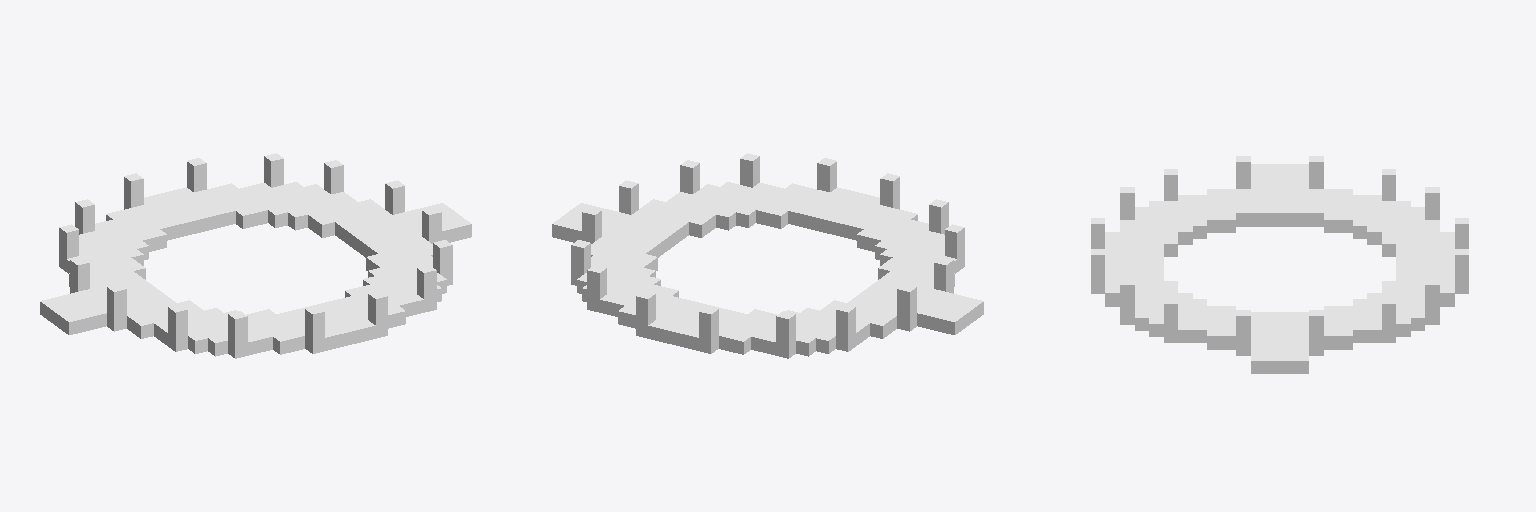
File: direct5.obj
3 renders of one model, left to right at view 1: azimuth 30°, elevation 25°; view 2: azimuth 150°, elevation 25°; view 3: azimuth 270°, elevation 25°, orthographic.
Visible parts, largest first — view 1: object 1; view 2: object 1; view 3: object 1.
Part boxes in pixels (x1,y1,x2,y2): object 1: (40, 153, 471, 358); object 1: (552, 153, 983, 358); object 1: (1091, 156, 1468, 373).
Size of the model in its own units: 3.2 by 0.3 by 2.6.